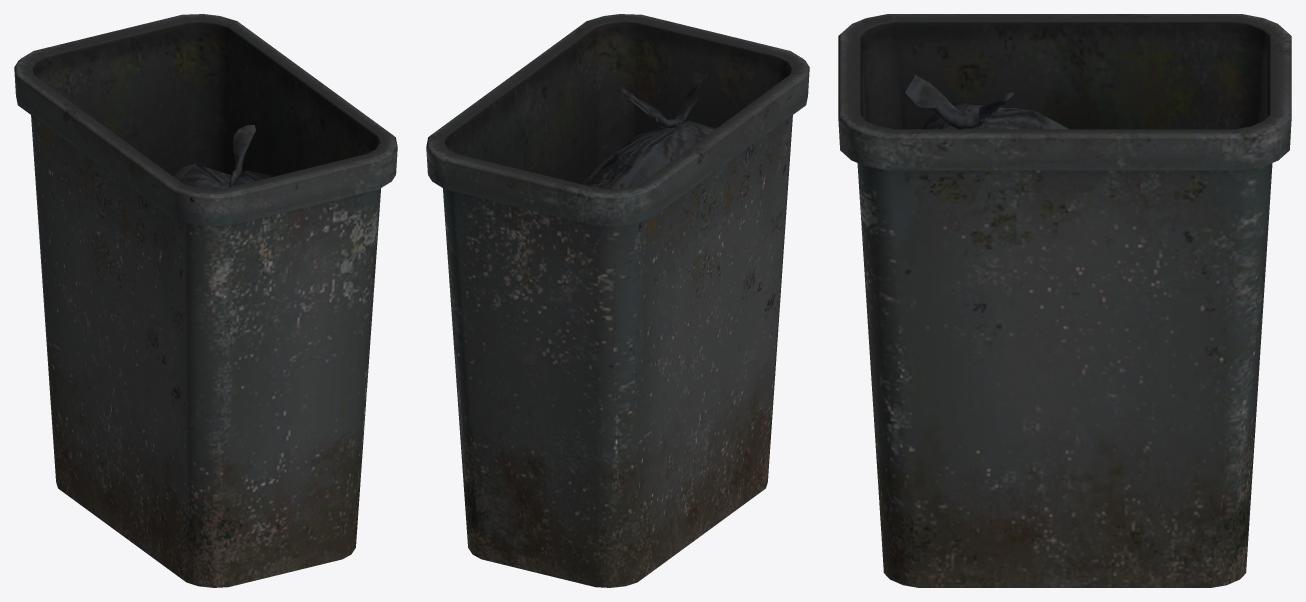
File: 071_DustBox.fbx
3 views of the same model, side by side, from view 1: azimuth 30°, elevation 25°; view 2: azimuth 150°, elevation 25°; view 3: azimuth 270°, elevation 25° (orthographic). The views are drawn at different scales.
Parts seen in each view (by area): view 1: LOD_1_Group_0_Sub_1__sm30_071_Dustbox01A_A_Mat; view 2: LOD_1_Group_0_Sub_1__sm30_071_Dustbox01A_A_Mat; view 3: LOD_1_Group_0_Sub_1__sm30_071_Dustbox01A_A_Mat.
Boxes of the visible parts, <box> form: LOD_1_Group_0_Sub_1__sm30_071_Dustbox01A_A_Mat: <box>14,14,397,587</box>; LOD_1_Group_0_Sub_1__sm30_071_Dustbox01A_A_Mat: <box>426,14,809,587</box>; LOD_1_Group_0_Sub_1__sm30_071_Dustbox01A_A_Mat: <box>838,14,1291,587</box>.
Bounding box in the file's own units: 0.3439 × 0.6043 × 0.5318.
